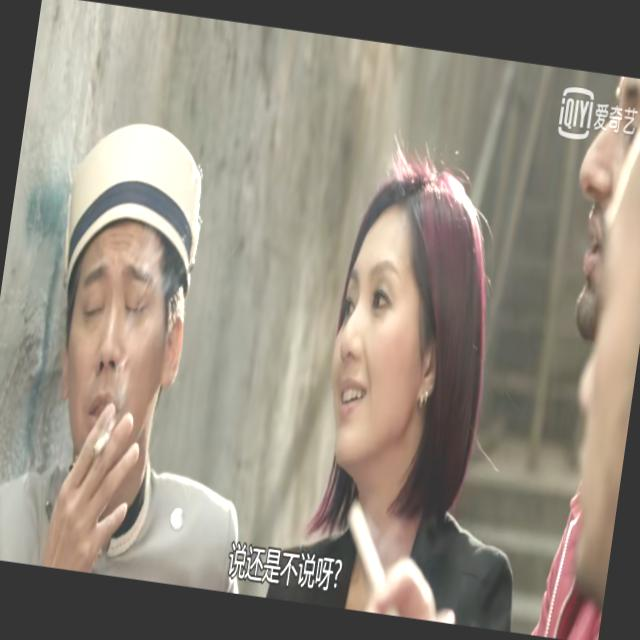smoke: (334, 490, 416, 617), (89, 431, 113, 464)
